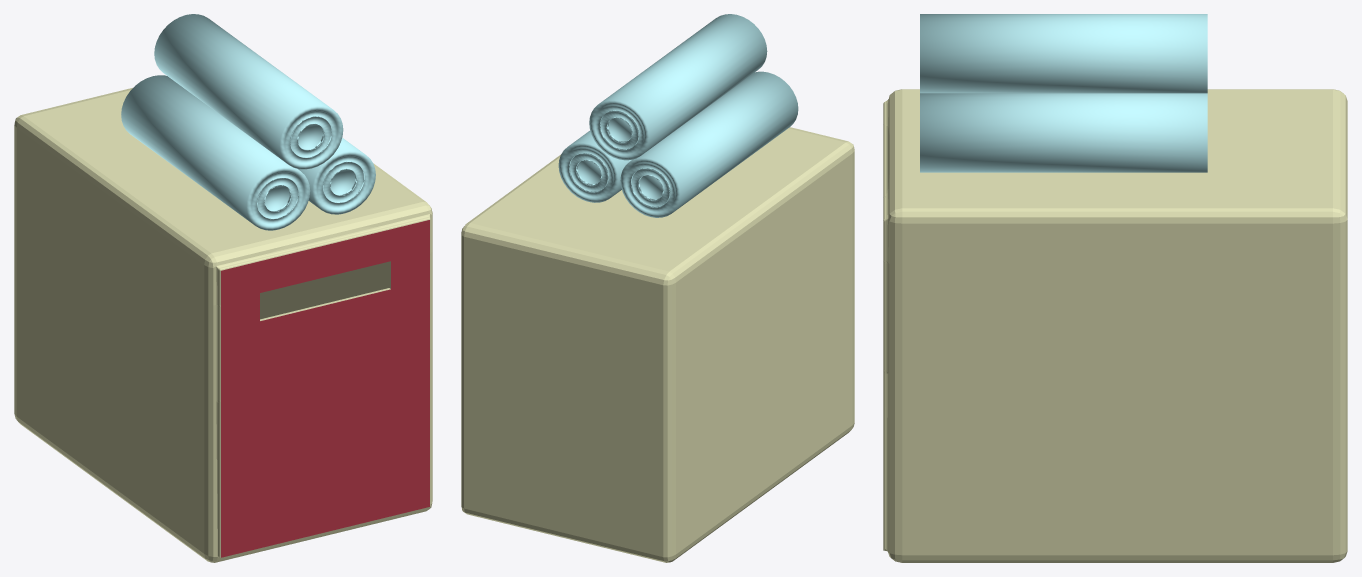
Rendered from miscellanous.fbx.
3 views of the same model, side by side, from view 1: azimuth 30°, elevation 25°; view 2: azimuth 150°, elevation 25°; view 3: azimuth 270°, elevation 25° (orthographic). The views are drawn at different scales.
Visible parts, largest first — view 1: Cube; view 2: Cube; view 3: Cube.
Part boxes in pixels (x1=…): Cube: x1=14, y1=14, x2=432, y2=562; Cube: x1=461, y1=14, x2=854, y2=562; Cube: x1=883, y1=14, x2=1347, y2=562.
Bounding box in the file's own units: 61.4 × 110 × 95.12.
